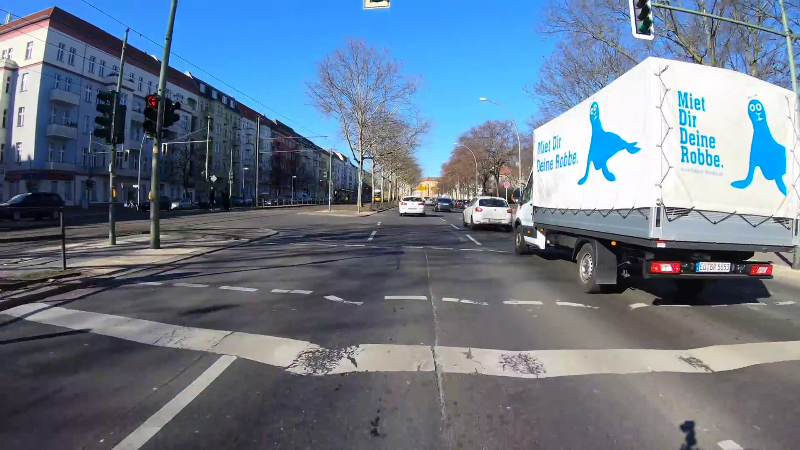Plate: (694, 261, 730, 273)
